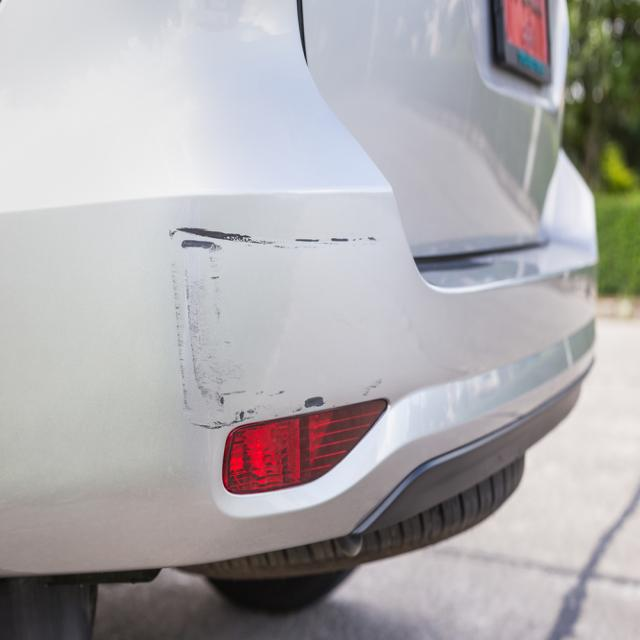scratch: (163, 223, 387, 431)
